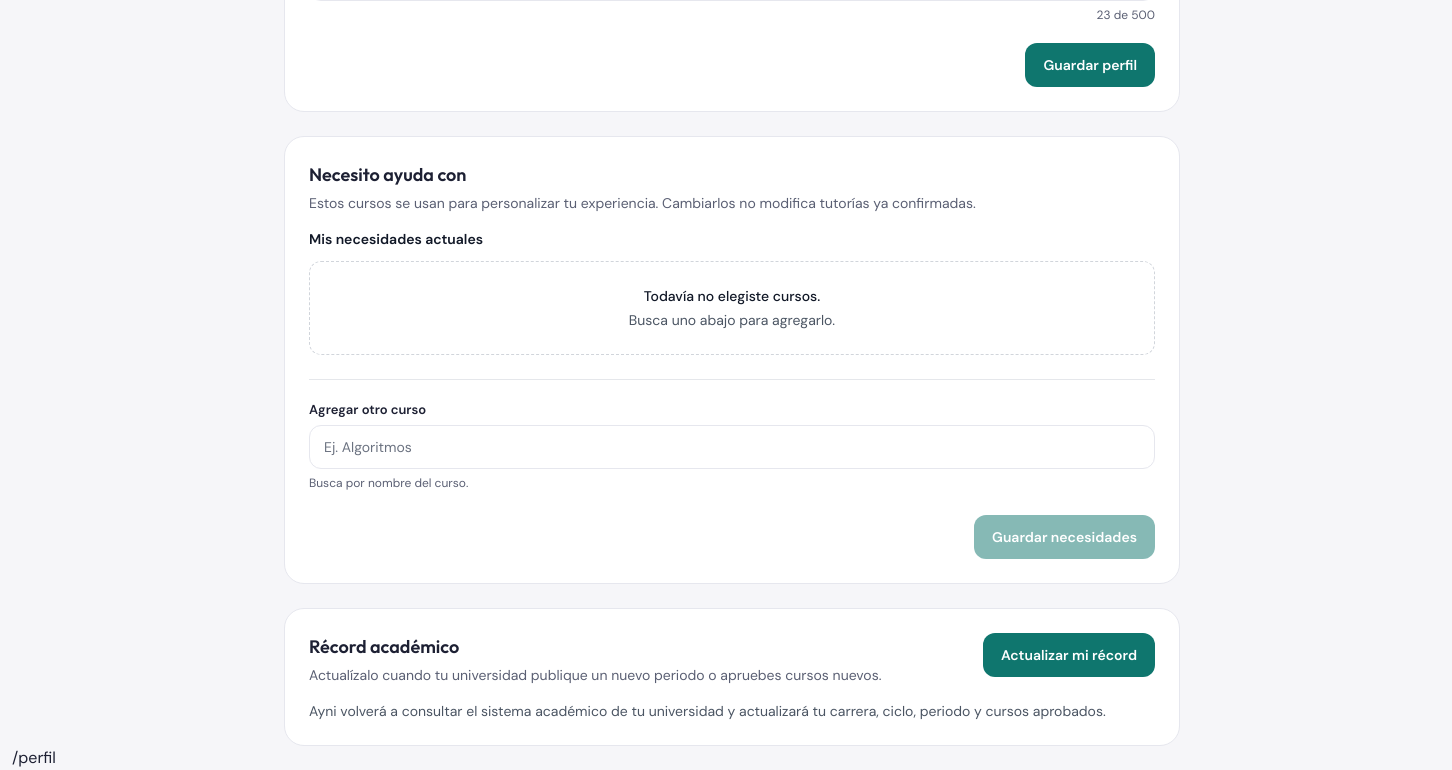
it: FE-04 profile › re-imports the academic record, updates currentCycle and shows newly approved courses
The image size is (1452, 770).
(page scrolled)
Click the button "Actualizar mi récord" at (1069, 655), box [983,633,1155,677]
(page scrolled)
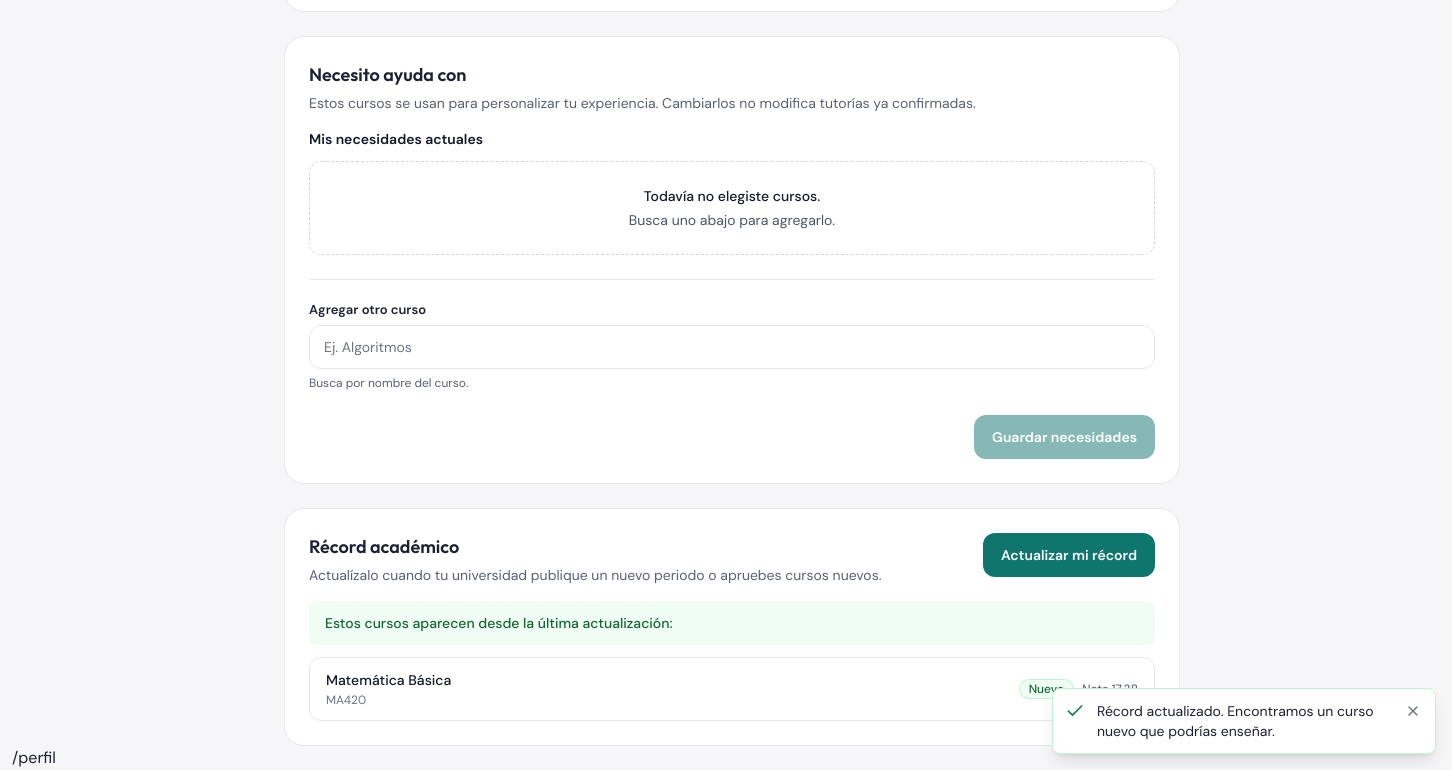
Expected: the text "Estos cursos aparecen desde la última actualización:" is shown, [309,601,1155,645]
Expected: the text "Matemática Básica" is shown, [326,670,451,690]
Expected: the text "MA420" is shown, [326,692,366,708]
